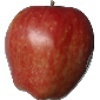apple: (4, 5, 95, 100)
